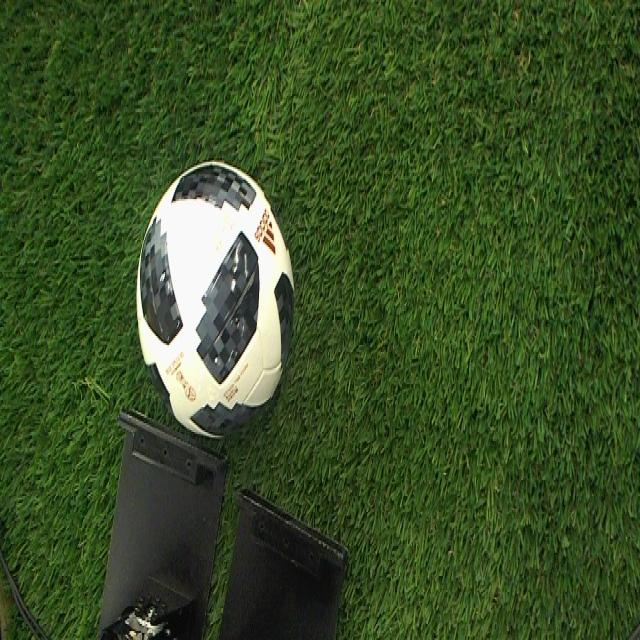ball: (135, 158, 296, 439)
